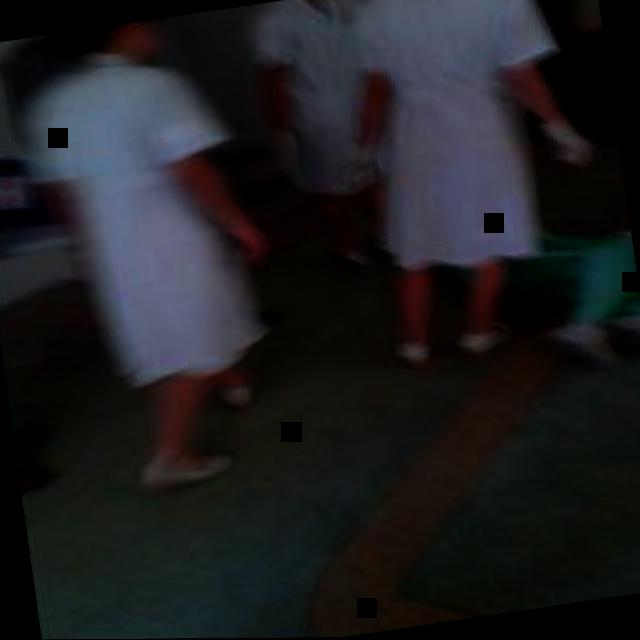Fall-Detected: (402, 176, 640, 387)
